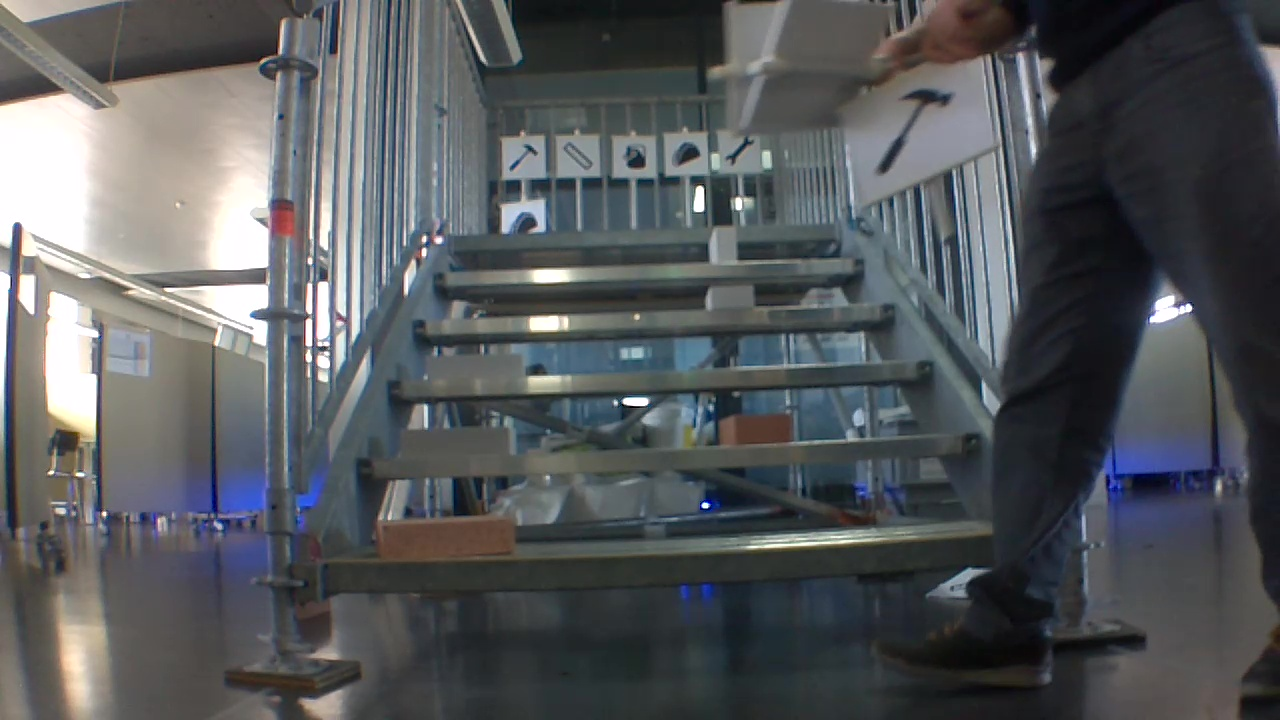brick: (375, 513, 519, 558), (396, 425, 511, 461), (422, 351, 523, 382), (717, 412, 791, 449), (697, 283, 762, 313), (705, 223, 741, 264)
bucket: (617, 139, 653, 174)
edge: (301, 529, 1000, 598), (350, 429, 984, 479), (382, 356, 938, 399), (414, 300, 895, 343), (443, 223, 841, 253), (432, 263, 868, 288)
hammer: (872, 85, 949, 177), (504, 143, 537, 174)
ruler: (564, 140, 595, 170)
stairs: (274, 0, 1060, 693)
steps: (298, 218, 1003, 612)
taco: (670, 136, 703, 167), (506, 210, 539, 235)
wrench: (726, 135, 756, 166)
